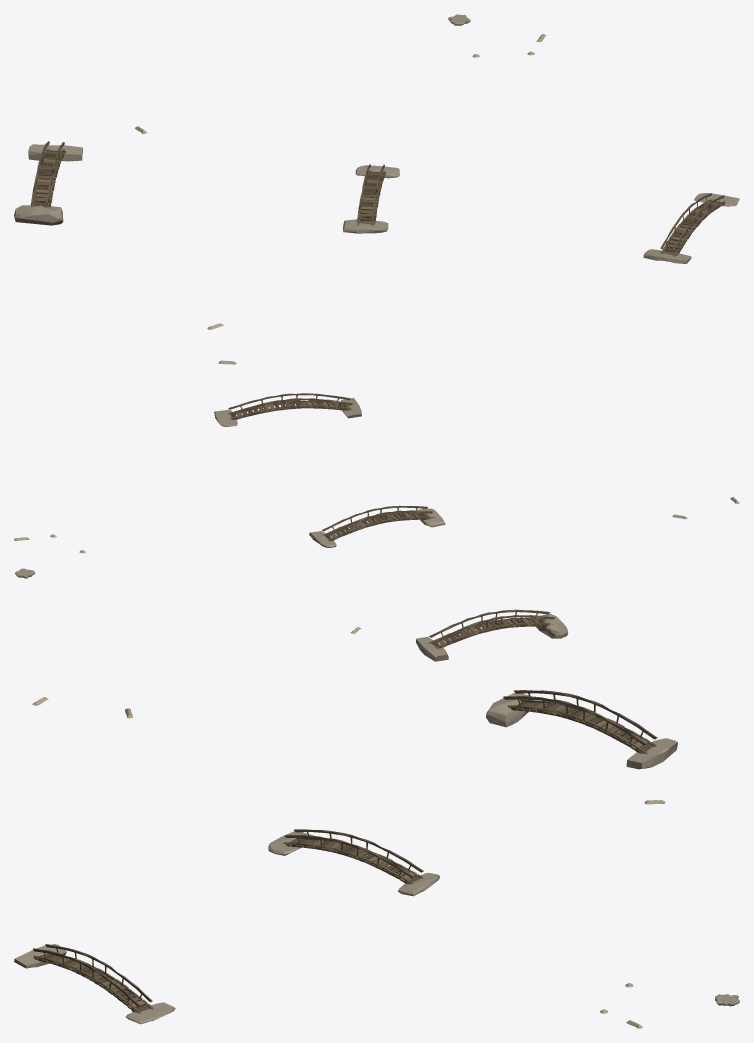
File: Probuilder_Forest_Steppable.fbx
The picture shows the model from 3 angles, top to bottom: view 1: azimuth 30°, elevation 25°; view 2: azimuth 150°, elevation 25°; view 3: azimuth 270°, elevation 25°; orthographic projection. The views are drawn at different scales.
Parts seen in each view (by area): view 1: SM_Prop_Bridge_Curved_01, SM_Prop_Bridge_Curved_01__2_, SM_Prop_Bridge_Curved_01__1_, SM_Prop_Brick_02__3_, SM_Prop_Brick_01__1_; view 2: SM_Prop_Bridge_Curved_01__2_, SM_Prop_Bridge_Curved_01, SM_Prop_Bridge_Curved_01__1_, SM_Prop_Brick_02__3_, SM_Prop_Brick_01__1_; view 3: SM_Prop_Bridge_Curved_01__2_, SM_Prop_Bridge_Curved_01__1_, SM_Prop_Bridge_Curved_01, SM_Prop_Brick_01__1_, SM_Prop_Brick_02__3_, SM_Prop_Brick_02.
Boxes of the visible parts, x1,y1,x2,y2 form: SM_Prop_Bridge_Curved_01: (660,193,725,256); SM_Prop_Bridge_Curved_01__2_: (30,141,66,208); SM_Prop_Bridge_Curved_01__1_: (356,164,385,225); SM_Prop_Brick_02__3_: (14,205,63,225); SM_Prop_Brick_01__1_: (28,144,82,161); SM_Prop_Bridge_Curved_01__2_: (428,609,555,648); SM_Prop_Bridge_Curved_01: (227,393,353,419); SM_Prop_Bridge_Curved_01__1_: (322,505,434,540); SM_Prop_Brick_02__3_: (536,613,568,638); SM_Prop_Brick_01__1_: (416,636,448,661); SM_Prop_Bridge_Curved_01__2_: (503,690,657,753); SM_Prop_Bridge_Curved_01__1_: (282,829,423,884); SM_Prop_Bridge_Curved_01: (33,944,153,1013); SM_Prop_Brick_01__1_: (626,738,677,769); SM_Prop_Brick_02__3_: (486,693,532,727); SM_Prop_Brick_02: (125,1002,175,1024).
Bounding box in the file's own units: 1473 × 75.37 × 1346.
1 material, 1 textured.
